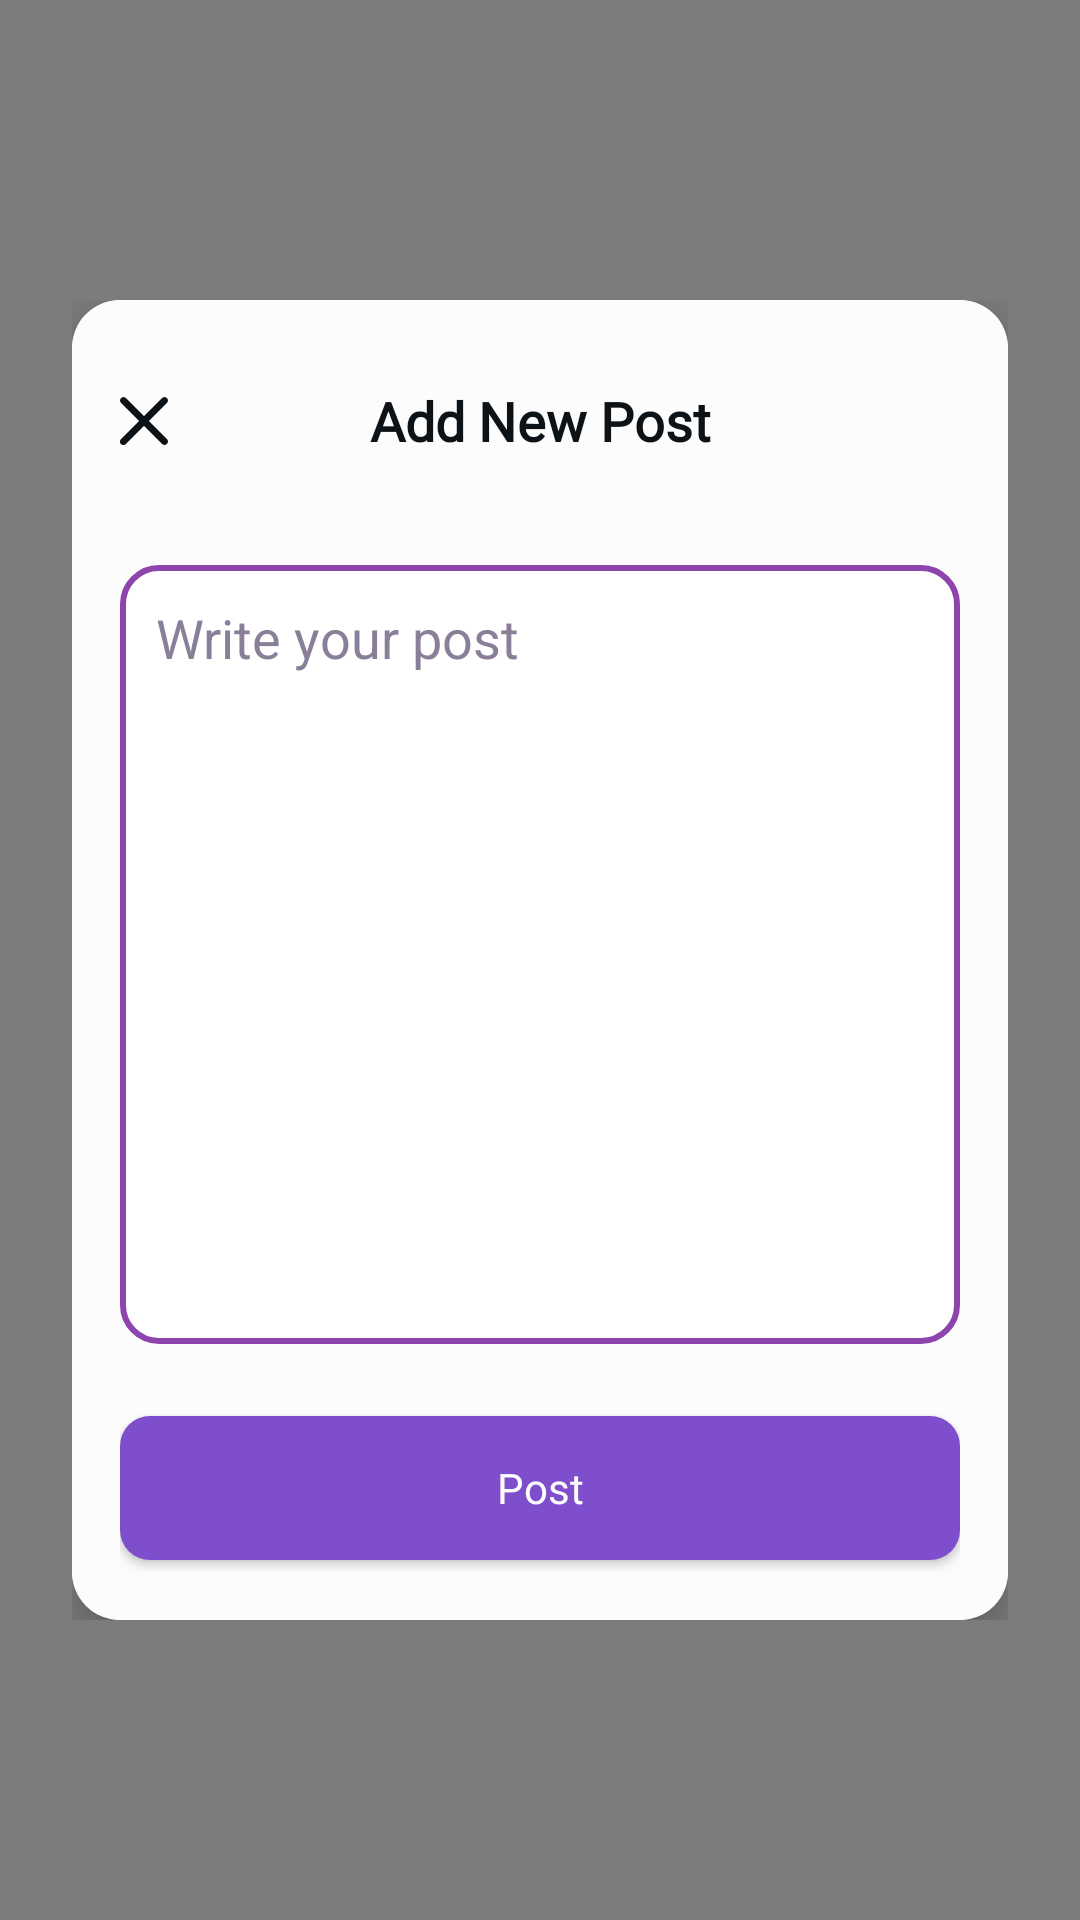

Locate icon controls on the screen. Image size 1080*1920, boxes as (x1, y1, x2, y2).
close: (120, 397, 168, 445)
